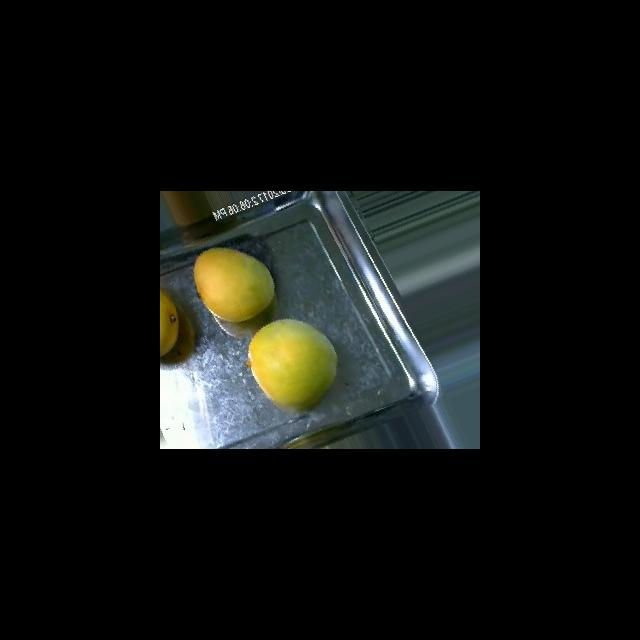mango: (247, 317, 338, 412), (193, 246, 275, 322), (160, 278, 179, 359)
